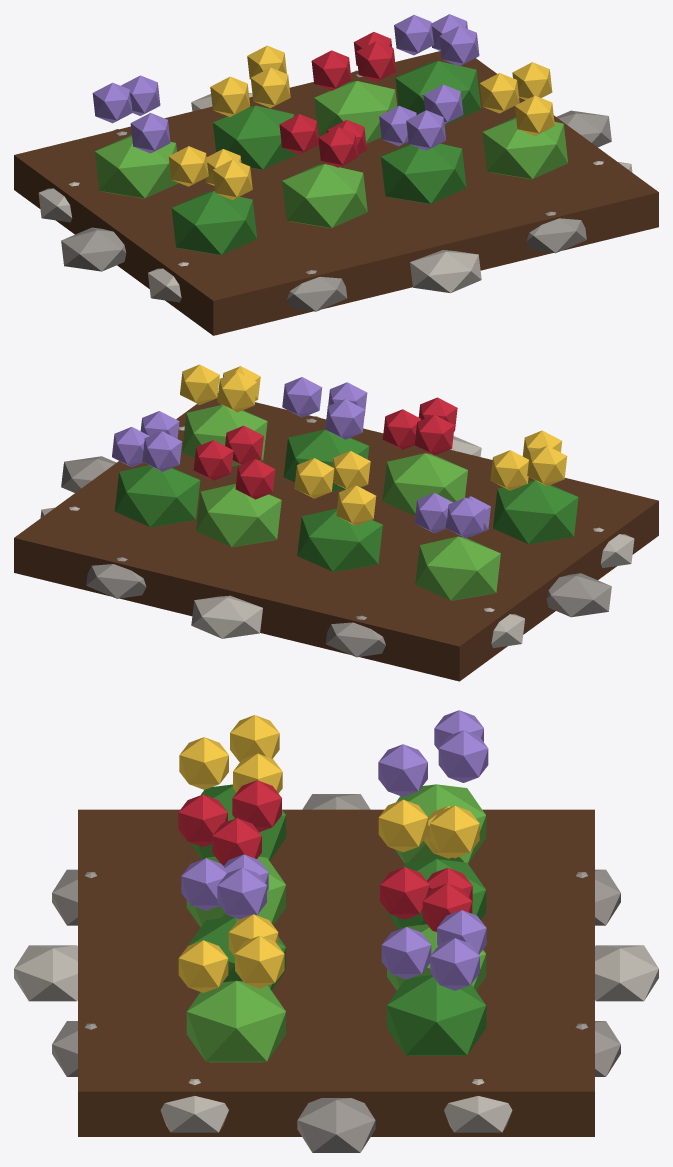
Rendered from flower_bed_3.glb.
3 views of the same model, one above another, from view 1: azimuth 30°, elevation 25°; view 2: azimuth 150°, elevation 25°; view 3: azimuth 270°, elevation 25° (orthographic). The views are drawn at different scales.
Visible parts, largest first — view 1: soil, leaf_light, leaf, stone, stone_light, head.001, head.002, head.010, head.005, head.011, head.017, head.020 (+16 smaller); view 2: soil, leaf, leaf_light, stone, stone_light, head.015, head.018, head.001, head.004, head.006, head.007, head.022 (+15 smaller); view 3: soil, leaf_light, leaf, stone_light, stone, head.011, head.012, head.017, head.023, head.002, head.021, head.009 (+15 smaller).
Part boxes in pixels (x1=…): soil: x1=14, y1=51, x2=658, y2=335; leaf_light: x1=95, y1=81, x2=567, y2=228; leaf: x1=171, y1=61, x2=480, y2=255; stone: x1=61, y1=70, x2=611, y2=311; stone_light: x1=38, y1=93, x2=632, y2=302; head.001: x1=168, y1=146, x2=208, y2=186; head.002: x1=212, y1=159, x2=252, y2=199; head.010: x1=479, y1=73, x2=519, y2=113; head.005: x1=318, y1=127, x2=358, y2=167; head.011: x1=515, y1=95, x2=554, y2=135; head.017: x1=250, y1=67, x2=290, y2=108; head.020: x1=356, y1=41, x2=396, y2=81; soil: x1=14, y1=393, x2=658, y2=681; leaf: x1=114, y1=429, x2=578, y2=571; leaf_light: x1=182, y1=405, x2=500, y2=600; stone: x1=61, y1=416, x2=611, y2=657; stone_light: x1=40, y1=426, x2=634, y2=648; head.015: x1=294, y1=458, x2=334, y2=498; head.018: x1=193, y1=440, x2=233, y2=480; head.001: x1=527, y1=445, x2=567, y2=486; head.004: x1=414, y1=415, x2=454, y2=455; head.006: x1=282, y1=377, x2=322, y2=417; head.007: x1=325, y1=399, x2=365, y2=439; head.022: x1=142, y1=431, x2=182, y2=471; soil: x1=78, y1=809, x2=594, y2=1136; leaf_light: x1=186, y1=784, x2=486, y2=1062; leaf: x1=187, y1=784, x2=486, y2=1055; stone_light: x1=14, y1=945, x2=658, y2=1132; stone: x1=52, y1=794, x2=620, y2=1152; head.011: x1=178, y1=940, x2=228, y2=992; head.012: x1=438, y1=730, x2=488, y2=782; head.017: x1=378, y1=799, x2=428, y2=852; head.023: x1=381, y1=927, x2=431, y2=979; head.002: x1=179, y1=737, x2=228, y2=789; head.021: x1=430, y1=938, x2=479, y2=990; head.009: x1=235, y1=936, x2=284, y2=988.
Size of the model in its own units: 0.9781 by 0.2353 by 0.7736.
